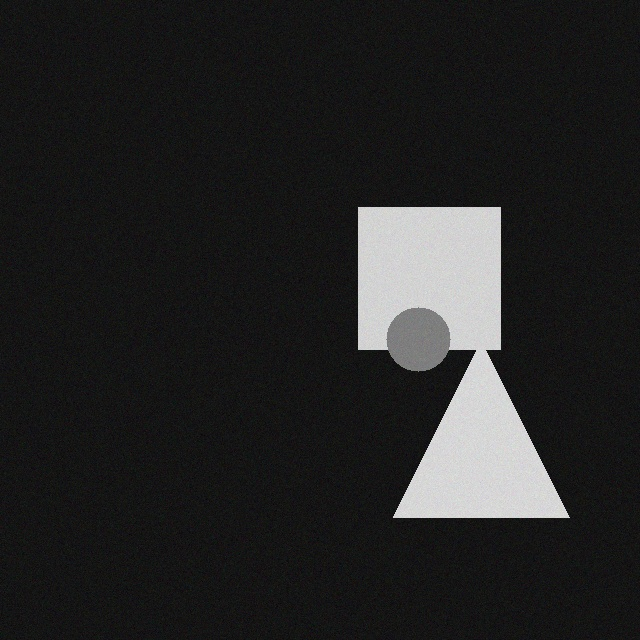circle: (371, 316, 435, 380)
square: (343, 216, 485, 358)
triangle: (378, 350, 554, 526)
